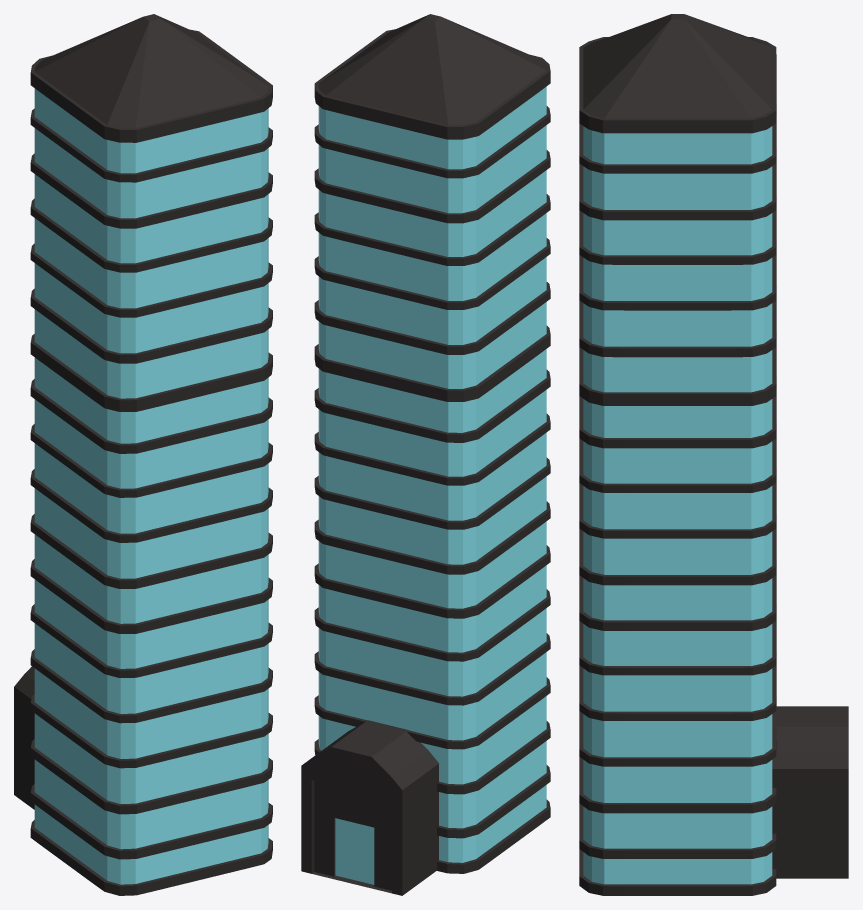
The model's file is skyscraper1_medium.fbx.
3 views of the same model, side by side, from view 1: azimuth 30°, elevation 25°; view 2: azimuth 150°, elevation 25°; view 3: azimuth 270°, elevation 25° (orthographic). The views are drawn at different scales.
Parts seen in each view (by area): view 1: Cube, Cube.001, Cube.002, Cube.003; view 2: Cube, Cube.001, Cube.003, Cube.002, Cube.004; view 3: Cube, Cube.001, Cube.002, Cube.003.
Part boxes in pixels (box(x1,y1,x2,y2)): Cube: box(34, 88, 268, 884); Cube.001: box(30, 29, 272, 895); Cube.002: box(35, 14, 268, 128); Cube.003: box(14, 666, 34, 809); Cube: box(318, 86, 546, 862); Cube.001: box(314, 29, 550, 873); Cube.003: box(301, 720, 438, 895); Cube.002: box(318, 14, 546, 125); Cube.004: box(335, 818, 374, 884); Cube: box(583, 126, 772, 884); Cube.001: box(579, 37, 776, 895); Cube.002: box(583, 14, 772, 118); Cube.003: box(772, 706, 848, 878).
Bounding box in the file's own units: 2324 × 10897 × 3176.
